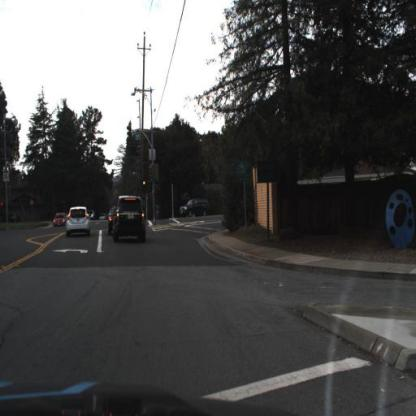car: (113, 196, 147, 245), (66, 206, 91, 238), (180, 198, 211, 221), (54, 212, 68, 228)
trafficLight-Red: (141, 179, 149, 193)
